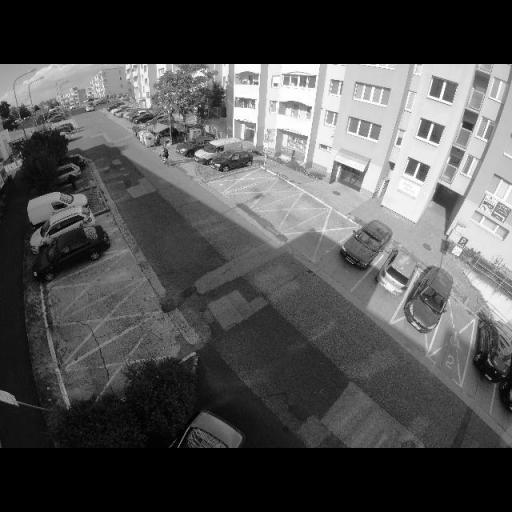busy: (33, 228, 109, 276), (168, 406, 254, 448), (408, 268, 450, 330), (29, 204, 89, 246), (340, 222, 391, 270), (476, 315, 510, 383), (24, 190, 88, 224), (380, 246, 416, 295), (192, 139, 246, 160), (214, 150, 256, 174), (175, 138, 217, 156), (130, 110, 158, 124), (108, 102, 128, 116), (114, 103, 132, 118)
free: (95, 340, 153, 376), (82, 307, 132, 330), (76, 268, 108, 296), (306, 226, 337, 252), (280, 202, 309, 224), (251, 185, 280, 202), (231, 171, 252, 187)
